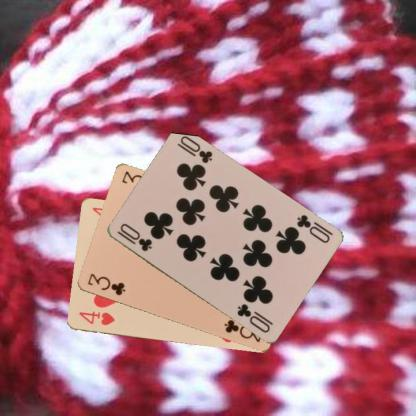10c: (114, 220, 153, 253), (294, 211, 331, 245)
3c: (84, 270, 126, 297)
4h: (76, 309, 116, 327)
